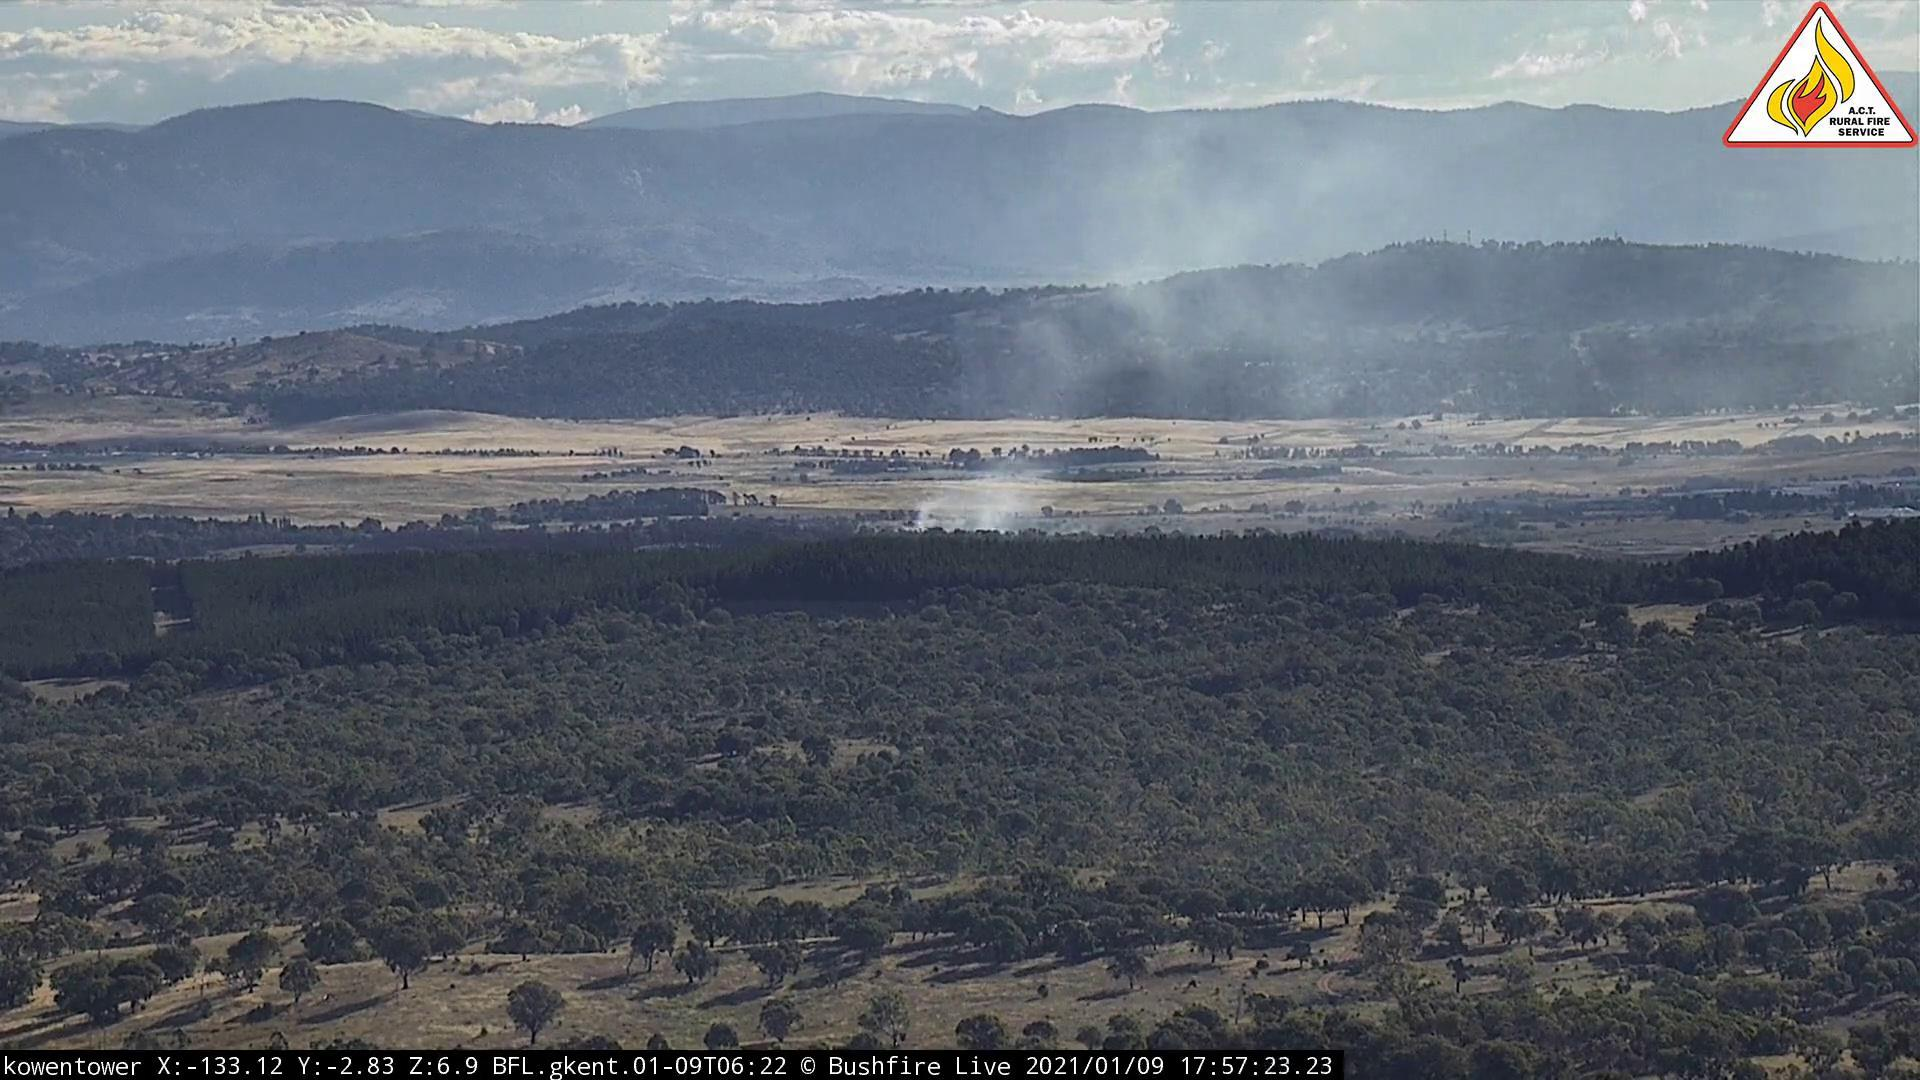Smoke: (914, 123, 1716, 542)
